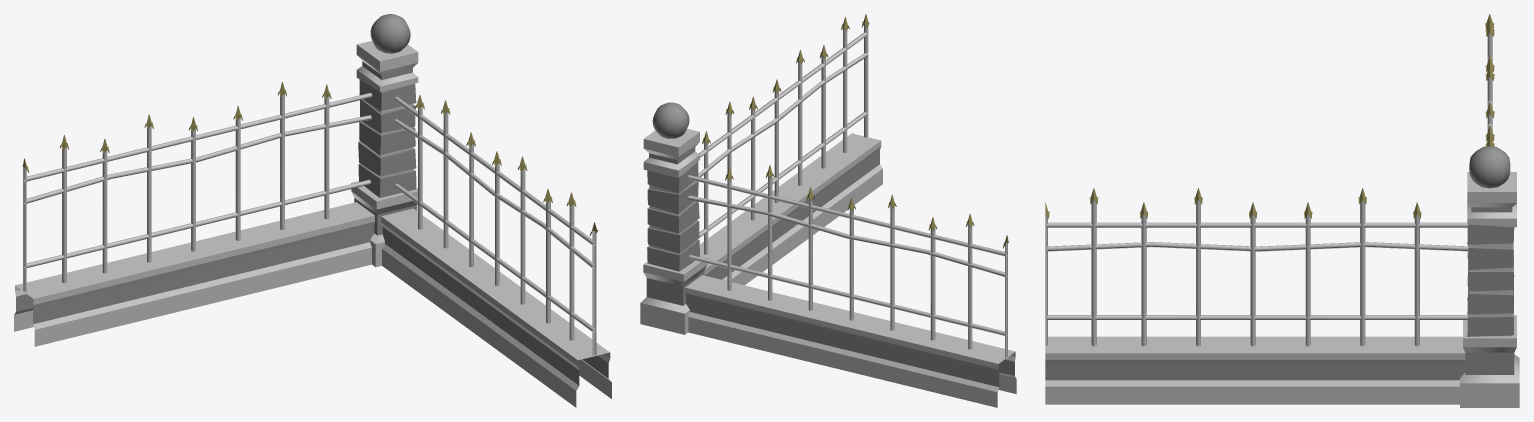
File: Fence_FancyCorner_Mod_01 (4).fbx
3 renders of one model, left to right at view 1: azimuth 30°, elevation 25°; view 2: azimuth 150°, elevation 25°; view 3: azimuth 270°, elevation 25°, orthographic. The views are drawn at different scales.
Parts seen in each view (by area): view 1: polySurface664; view 2: polySurface664; view 3: polySurface664.
Boxes of the visible parts, x1,y1,x2,y2 form: polySurface664: (14, 14, 611, 407); polySurface664: (640, 14, 1016, 407); polySurface664: (1045, 14, 1519, 407).
Size of the model in its own units: 5.01 by 2.91 by 5.
